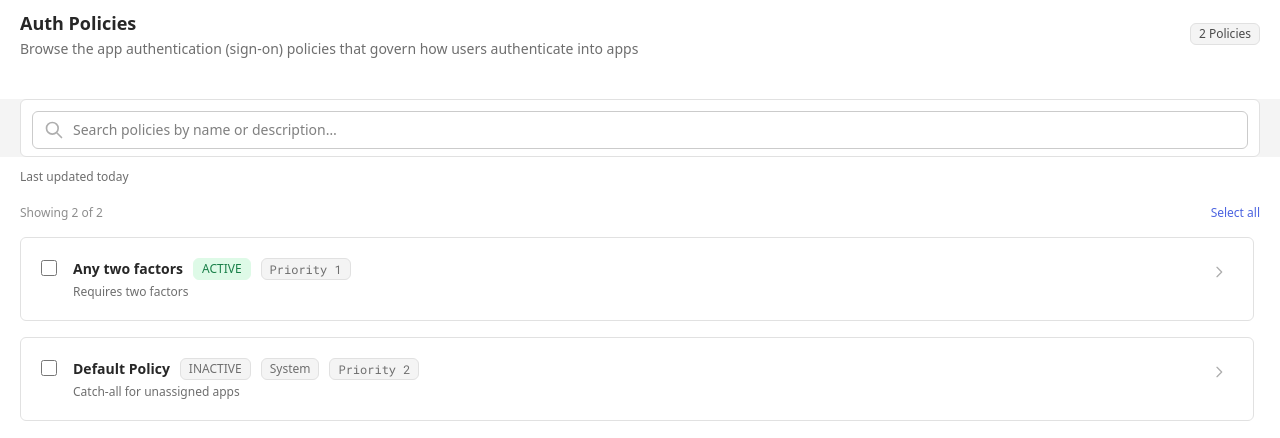
Scenario: AuthPoliciesTab › filters the list by a name or description substring
This screenshot has width=1280, height=438.
Expected: the heading "Any two factors" is shown, [73, 259, 183, 279]
In the search field named "Search auth policies": {"x": 640, "y": 130} [32, 111, 1248, 149], type "default"
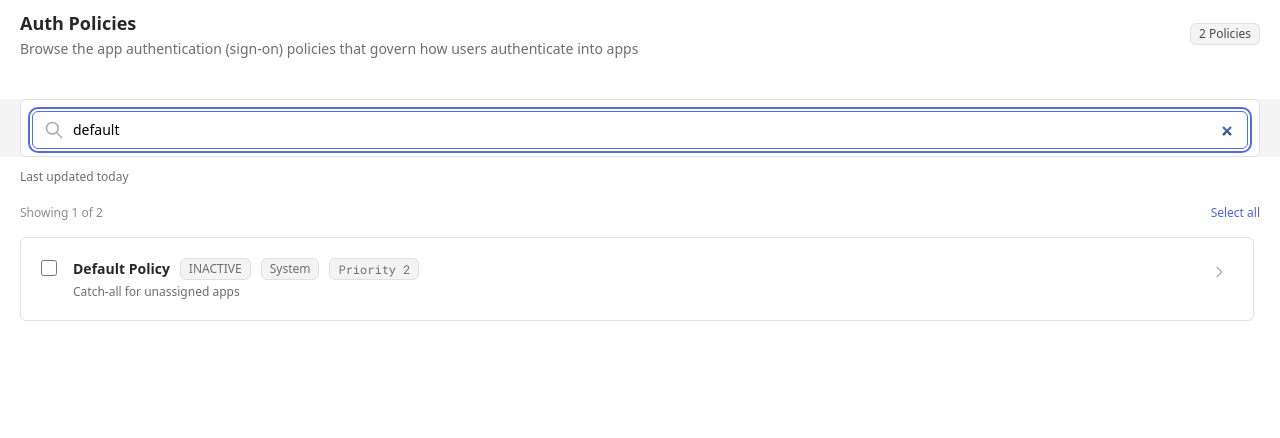
Expected: the heading "Default Policy" is shown, [73, 259, 170, 279]
Now the heading "Any two factors" is gone
Replace the text in the search field named "Search auth policies" with "two factors": {"x": 640, "y": 130} [32, 111, 1248, 149]
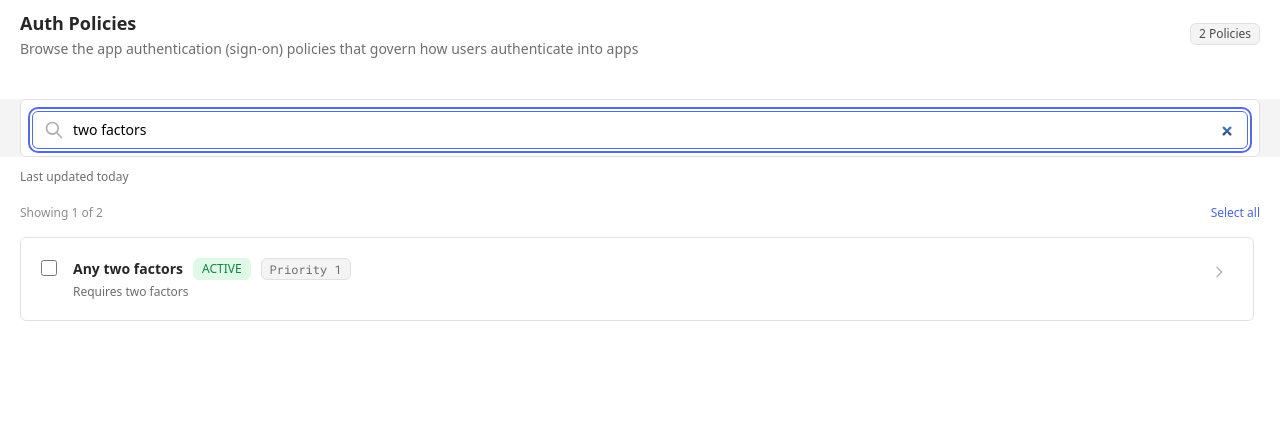
Expected: the heading "Default Policy" is not shown
Now the heading "Any two factors" is shown, box [73, 259, 183, 279]
Replace the text in the search field named "Search auth policies" with "zzzz-no-such-policy": {"x": 640, "y": 130} [32, 111, 1248, 149]
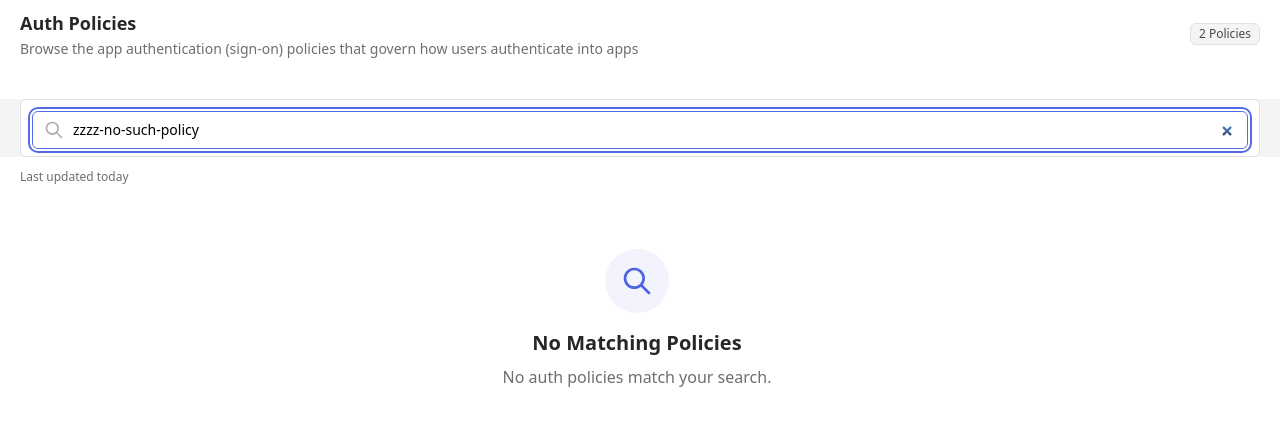
Now the heading "No Matching Policies" is shown, box [532, 329, 742, 356]
